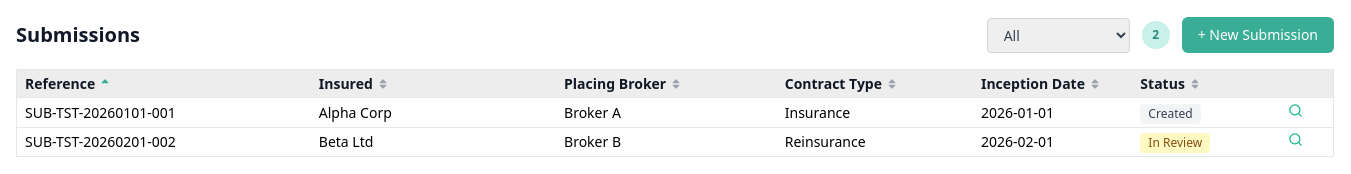
Test case: SubmissionsPage › T-SUB-LIST-R06: status dropdown filters displayed rows
The image size is (1351, 174).
Check: the text "SUB-TST-20260101-001" is shown, box top-left (25, 103), bottom-right (176, 122)
Select "In Review" in the dropdown named "filter by status" at (1058, 35), box top-left (987, 18), bottom-right (1130, 52)
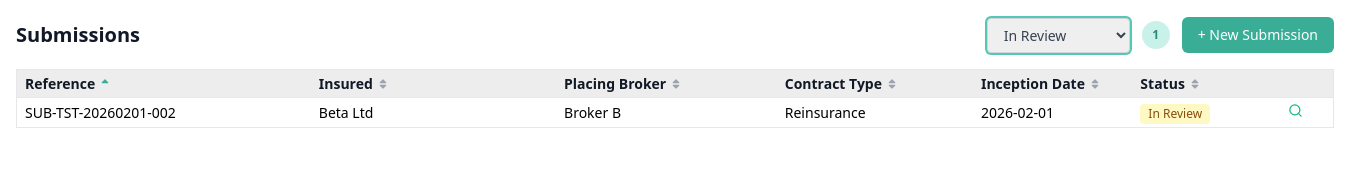
Check: the text "SUB-TST-20260201-002" is shown, box top-left (25, 103), bottom-right (176, 122)
Check: the text "SUB-TST-20260101-001" is gone
